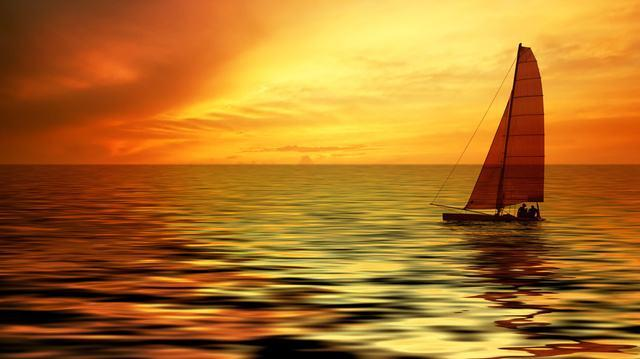fanchuan: (427, 39, 550, 230)
